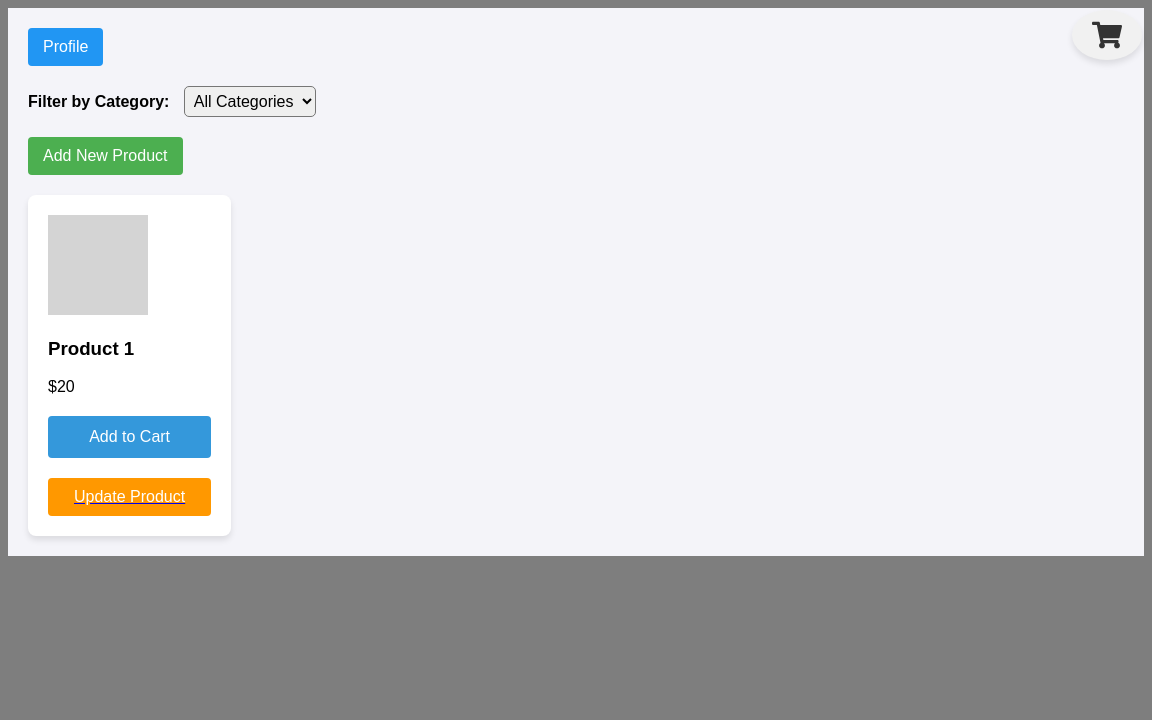
Scenario: Shopping Cart Integration › updates the cart when a product is added and displays it in the ShoppingCart
The image size is (1152, 720).
Expected: the heading "Product 1" is shown, left=48, top=338, right=134, bottom=359
Click the button "Add to Cart". click: (130, 437)
box: left=48, top=416, right=211, bottom=458
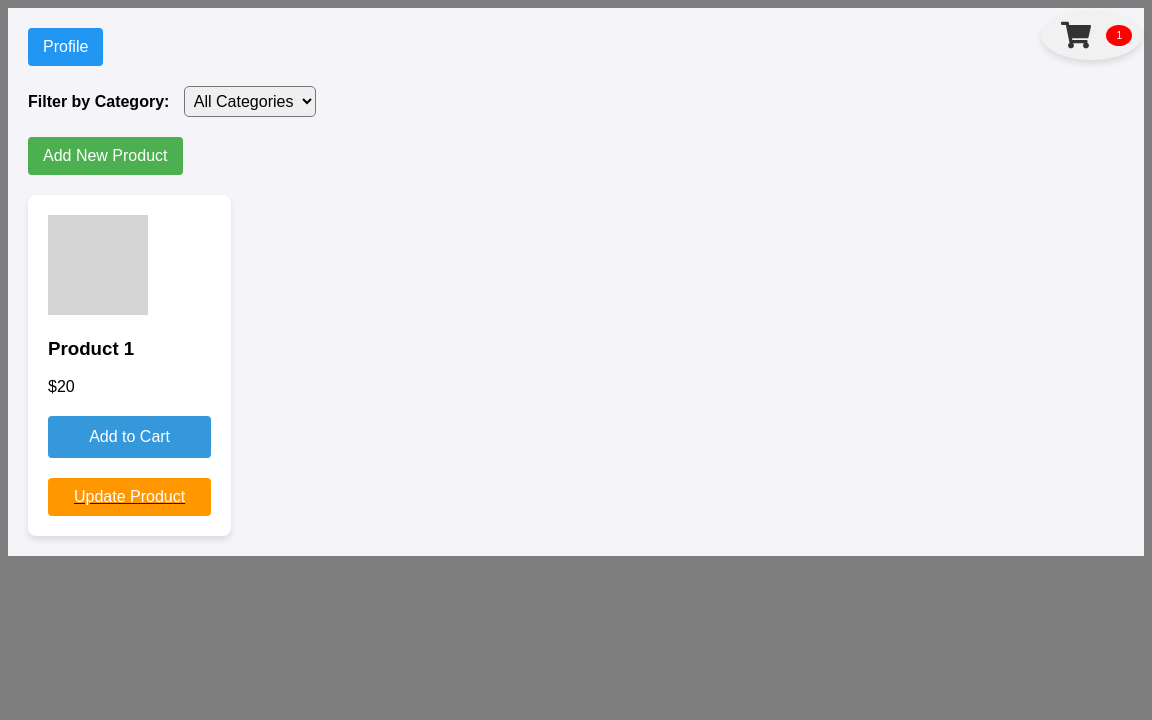
Now the text "1" is shown, box left=1106, top=24, right=1132, bottom=46
Click the link "1". click: (1092, 35)
box: left=1041, top=10, right=1142, bottom=60
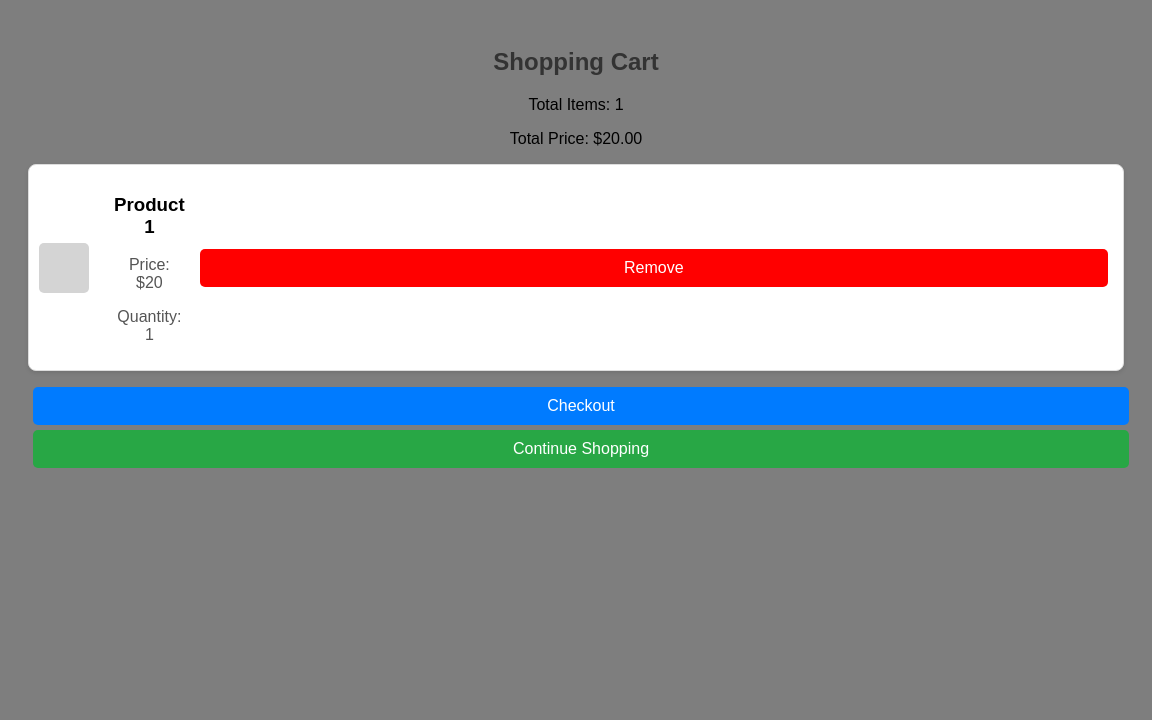
Expected: the heading "Product 1" is shown, left=114, top=194, right=185, bottom=238
Now the text "Total Items: 1" is shown, box left=528, top=96, right=624, bottom=113
Now the text "Total Price: $20.00" is shown, box left=510, top=130, right=642, bottom=147
